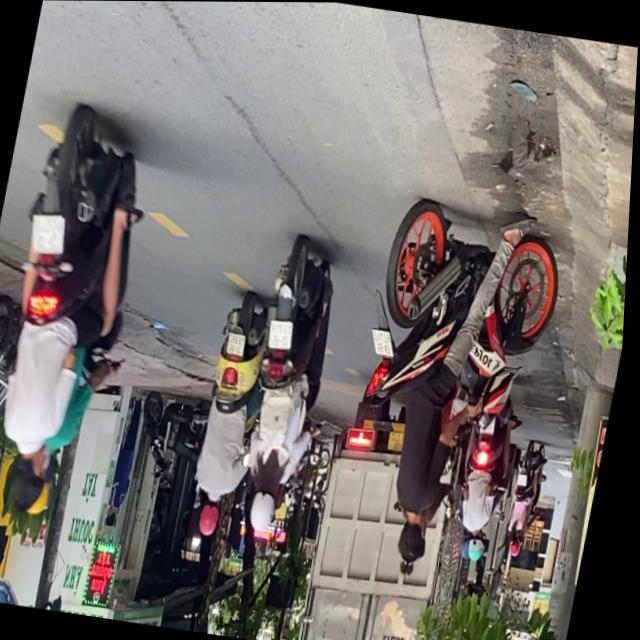helmet: (250, 481, 287, 534), (200, 496, 227, 538)
licenseplate: (327, 195, 579, 588), (0, 102, 166, 526), (231, 234, 352, 542), (182, 288, 285, 542)
motorcyclist: (7, 440, 58, 515), (391, 510, 442, 575)
nohelmet: (29, 215, 69, 255), (269, 319, 297, 350), (227, 332, 249, 357)
